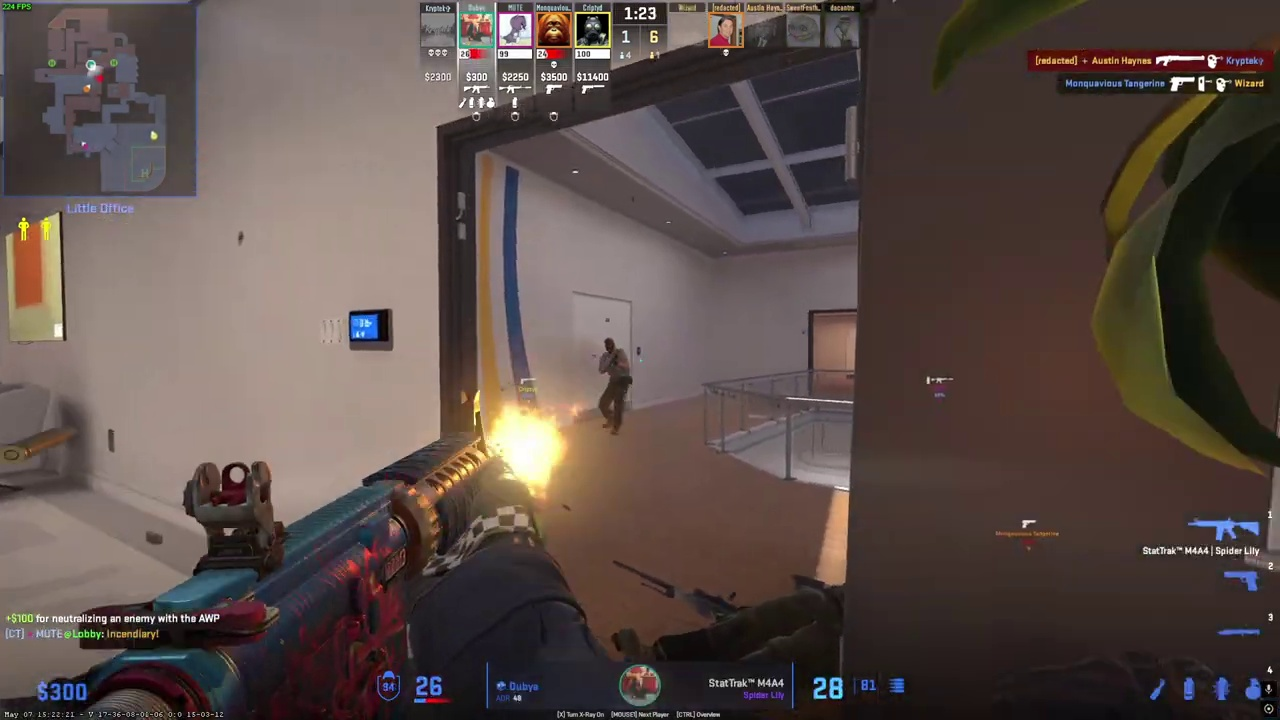Terrorist: (595, 335, 633, 435)
